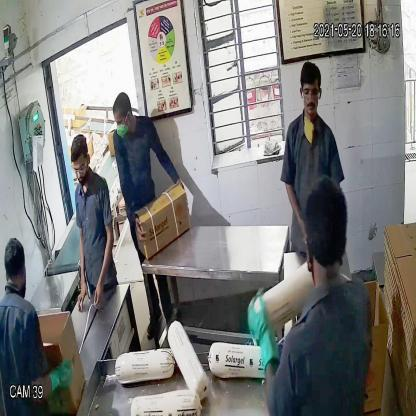goggles: (70, 158, 89, 176)
